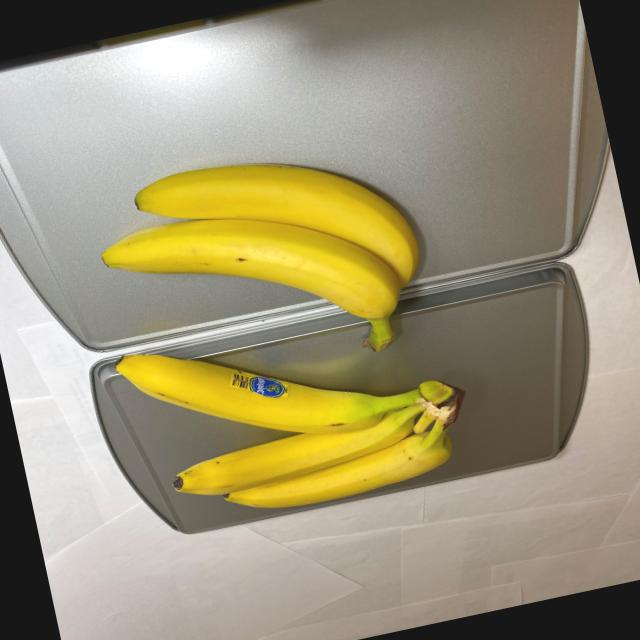banana: (84, 120, 447, 402), (105, 281, 486, 538)
